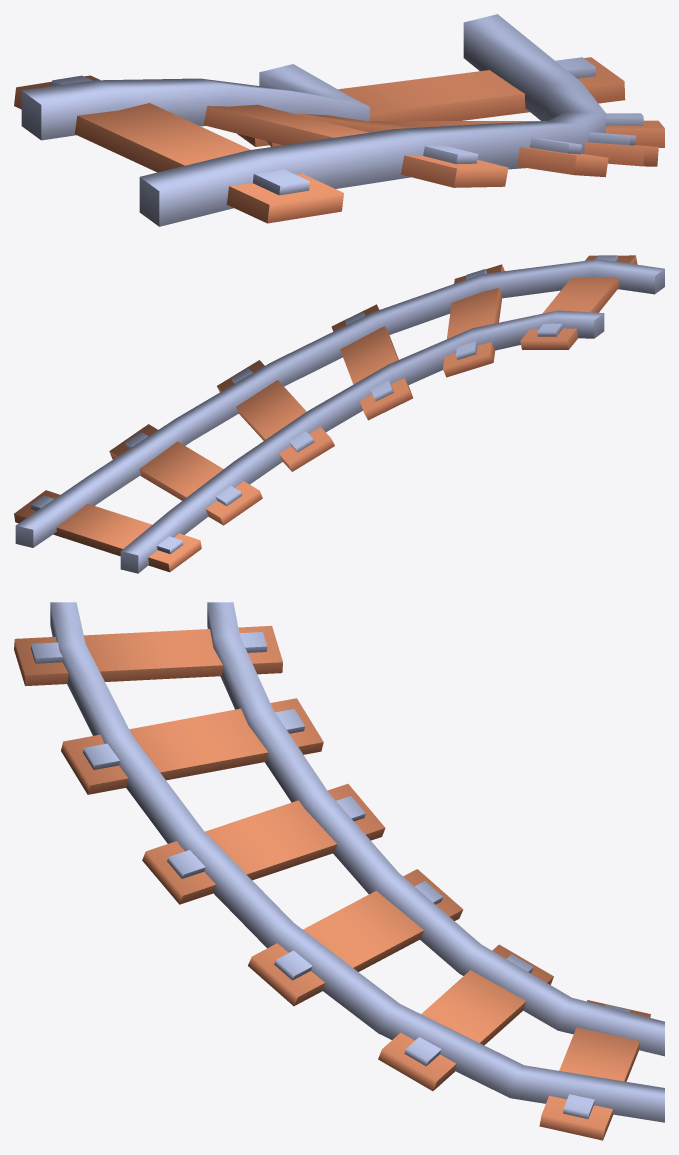
File: kenney-train-railroad-corner-small-ramp.glb
The picture shows the model from 3 angles, top to bottom: view 1: azimuth 30°, elevation 25°; view 2: azimuth 150°, elevation 25°; view 3: azimuth 270°, elevation 25°; orthographic projection. The views are drawn at different scales.
Parts seen in each view (by area): view 1: railroad-corner-small-ramp; view 2: railroad-corner-small-ramp; view 3: railroad-corner-small-ramp.
Part boxes in pixels (x1,y1,x2,y2): railroad-corner-small-ramp: (14,14,664,226); railroad-corner-small-ramp: (14,255,664,573); railroad-corner-small-ramp: (14,602,664,1140).
Size of the model in its own units: 2.49 by 1.11 by 2.49.
Materials: 1 (1 with a texture image).
